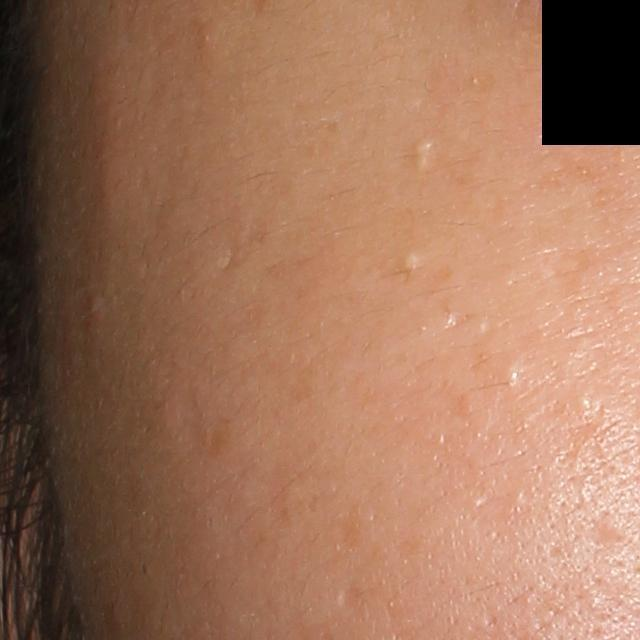atrophic_scar: (162, 387, 204, 457), (588, 512, 619, 557), (339, 586, 363, 612)
comedo: (394, 242, 427, 278), (413, 136, 436, 171)
